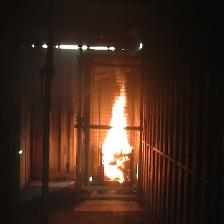fire: (102, 82, 133, 184)
